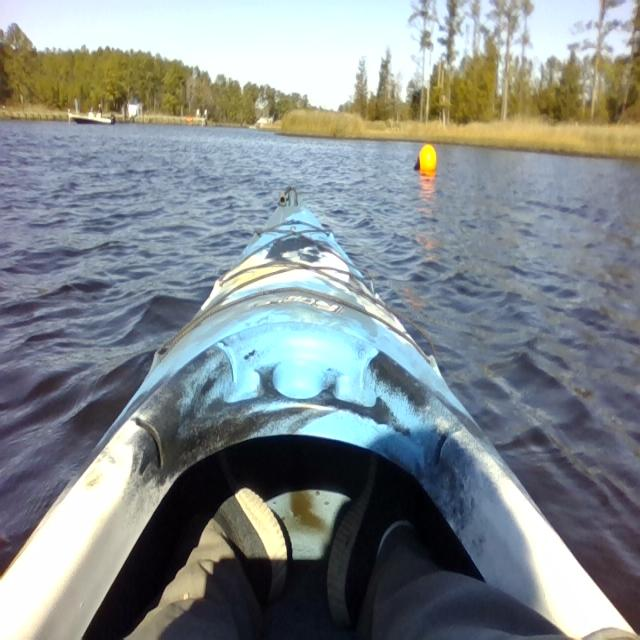Buoy: (414, 139, 438, 179)
